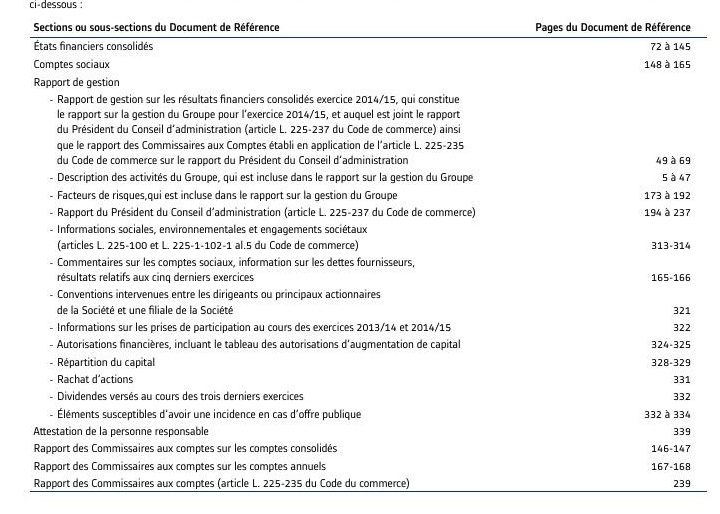table: (0, 0, 720, 514)
